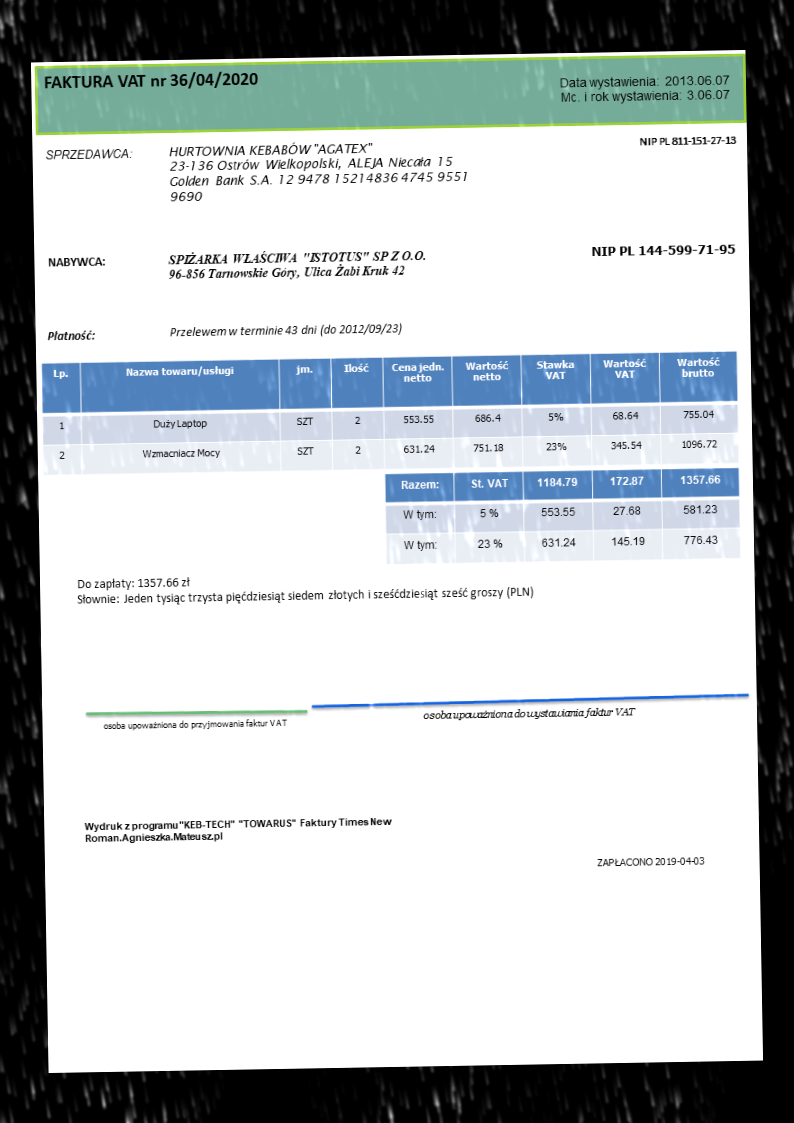Table: (40, 349, 740, 475), (384, 468, 741, 565)
TextBox: (166, 138, 470, 207), (74, 569, 535, 612), (83, 814, 395, 846), (166, 246, 428, 282), (556, 72, 733, 107), (41, 68, 260, 93), (166, 320, 403, 340), (420, 704, 637, 724), (102, 717, 289, 732), (589, 242, 736, 259), (594, 853, 707, 870), (43, 143, 133, 162), (636, 133, 738, 148), (45, 254, 108, 269), (45, 327, 97, 344)
